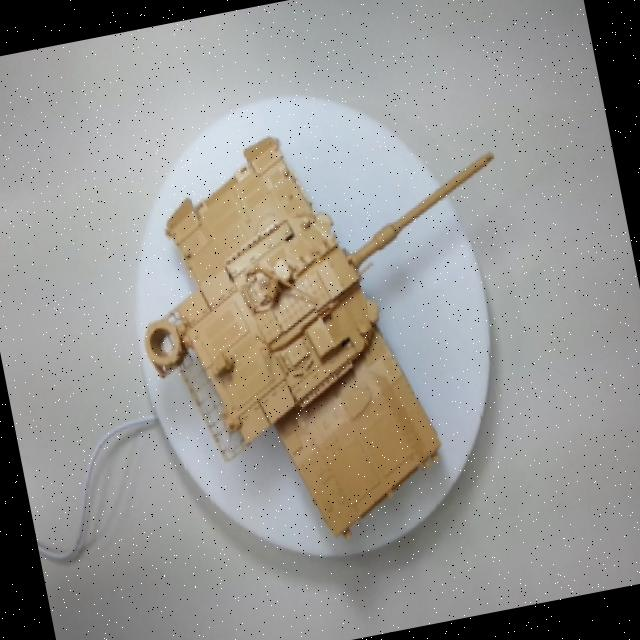korea tank: (107, 57, 604, 561)
